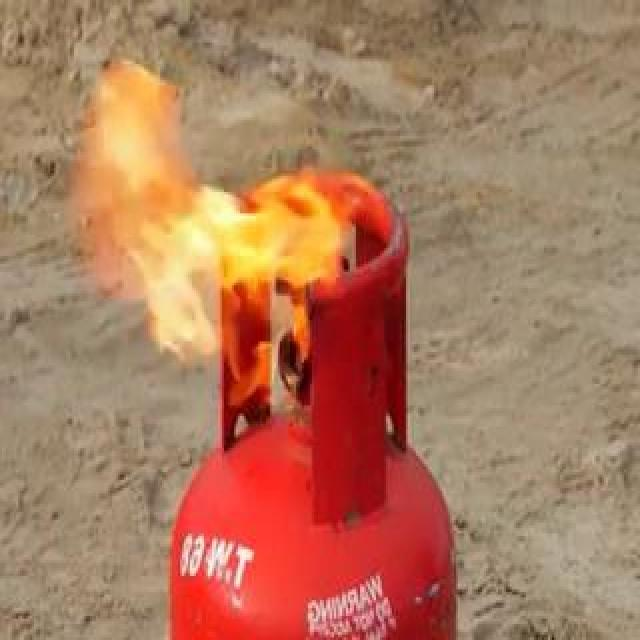Fire: (59, 24, 373, 456)
